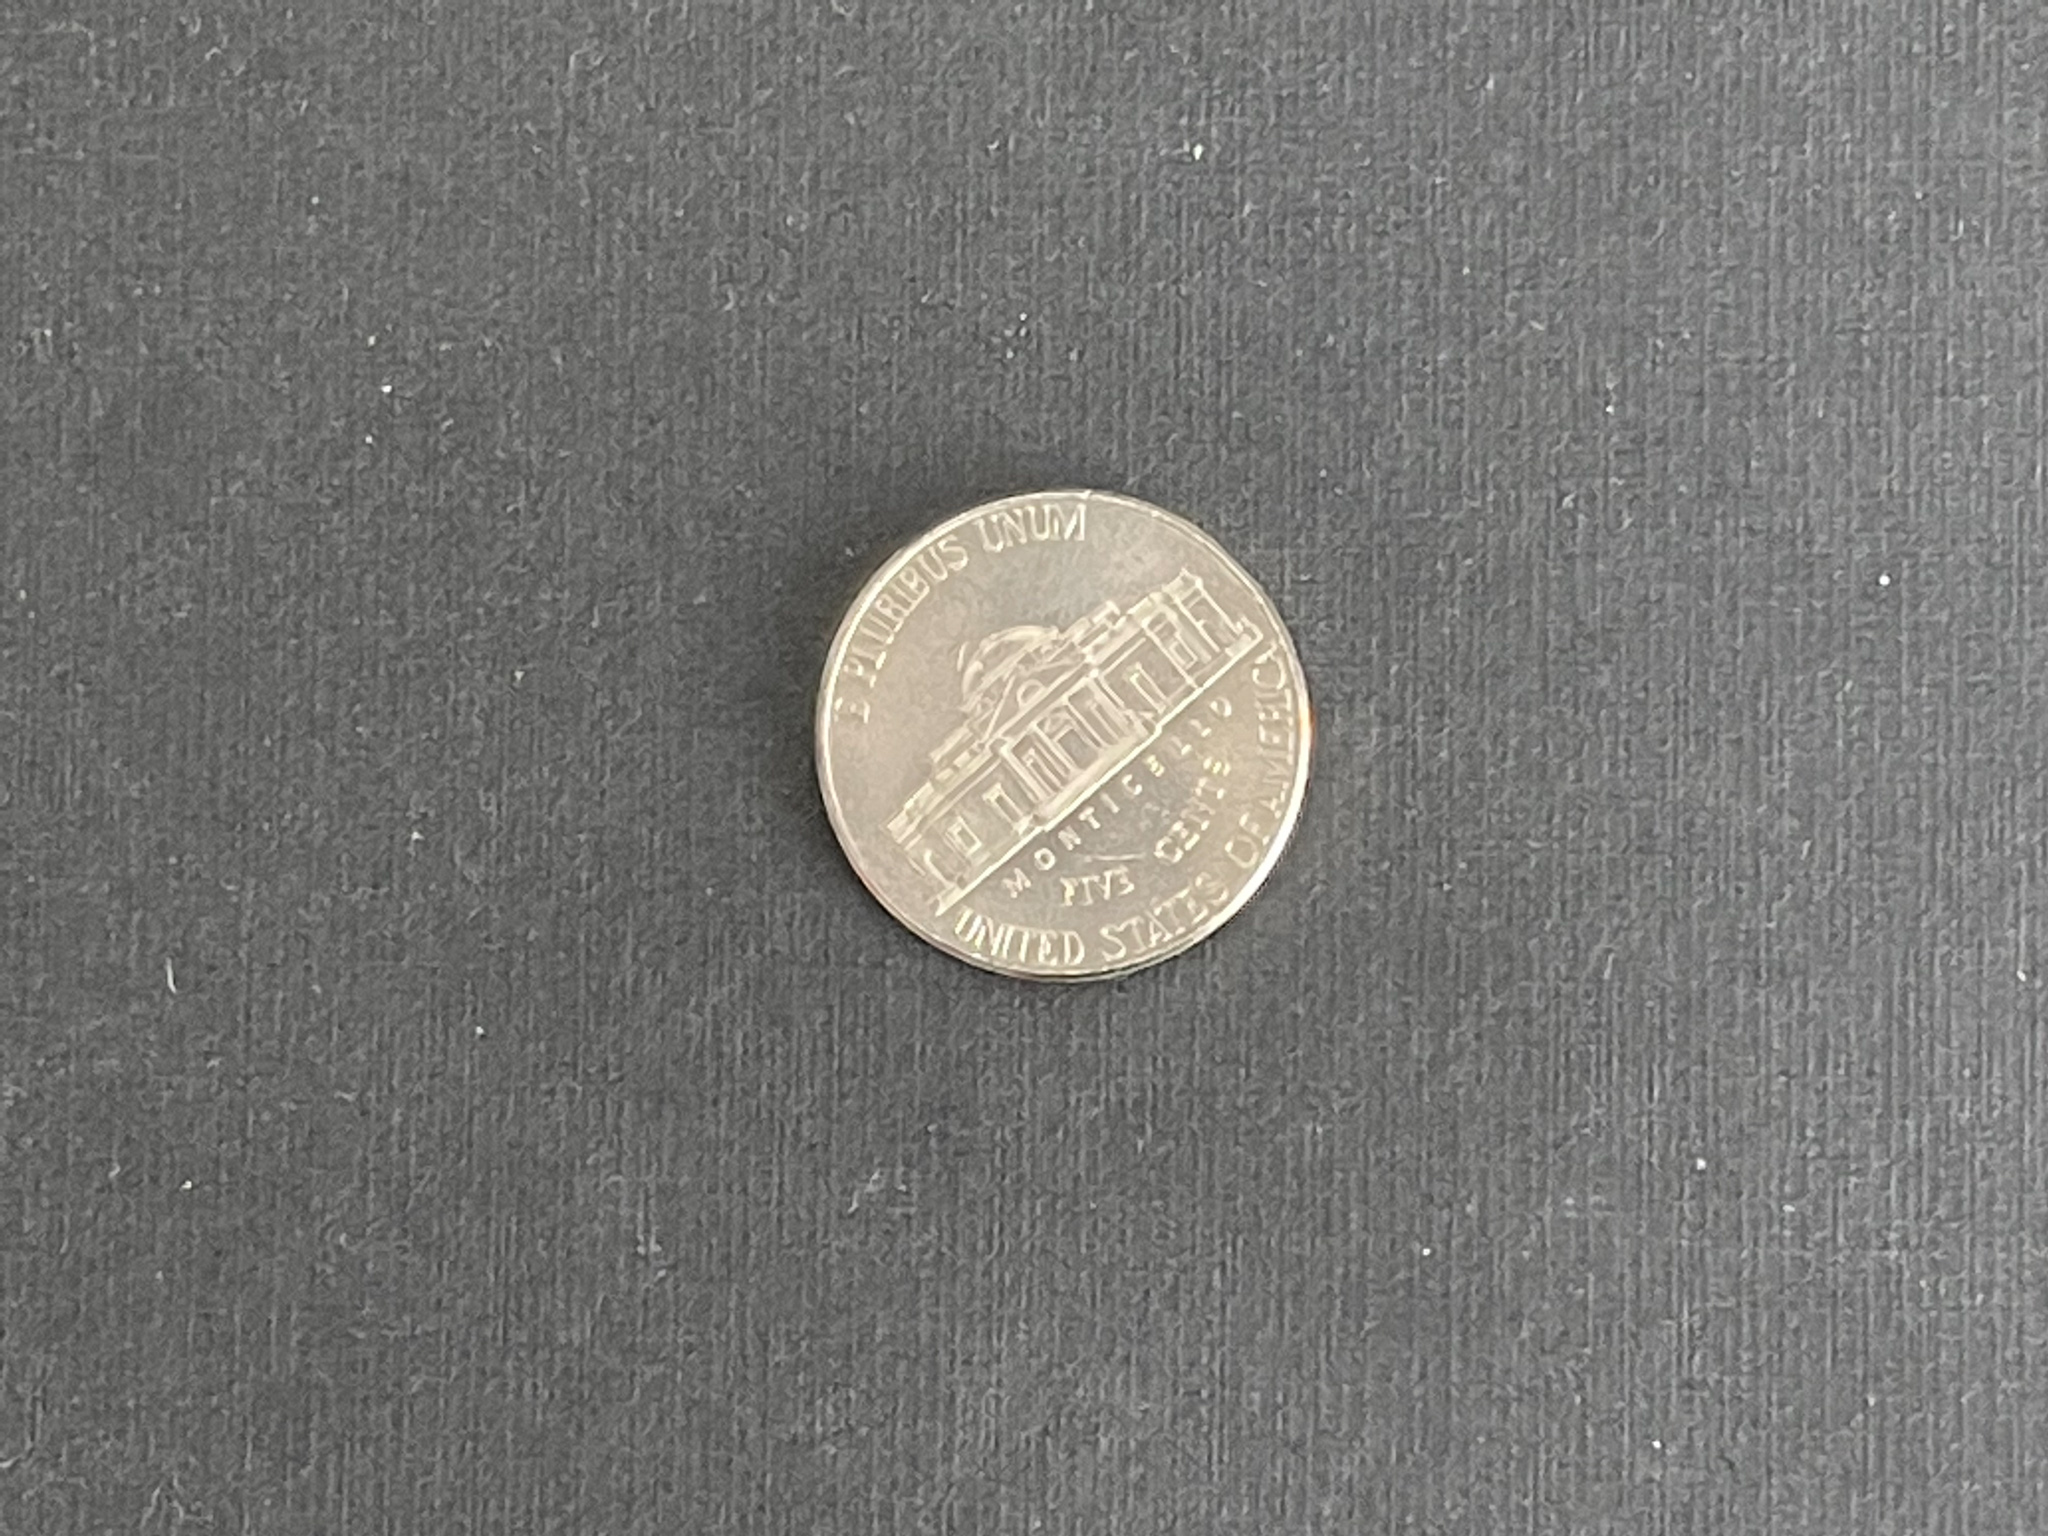nickel: (805, 481, 1314, 991)
